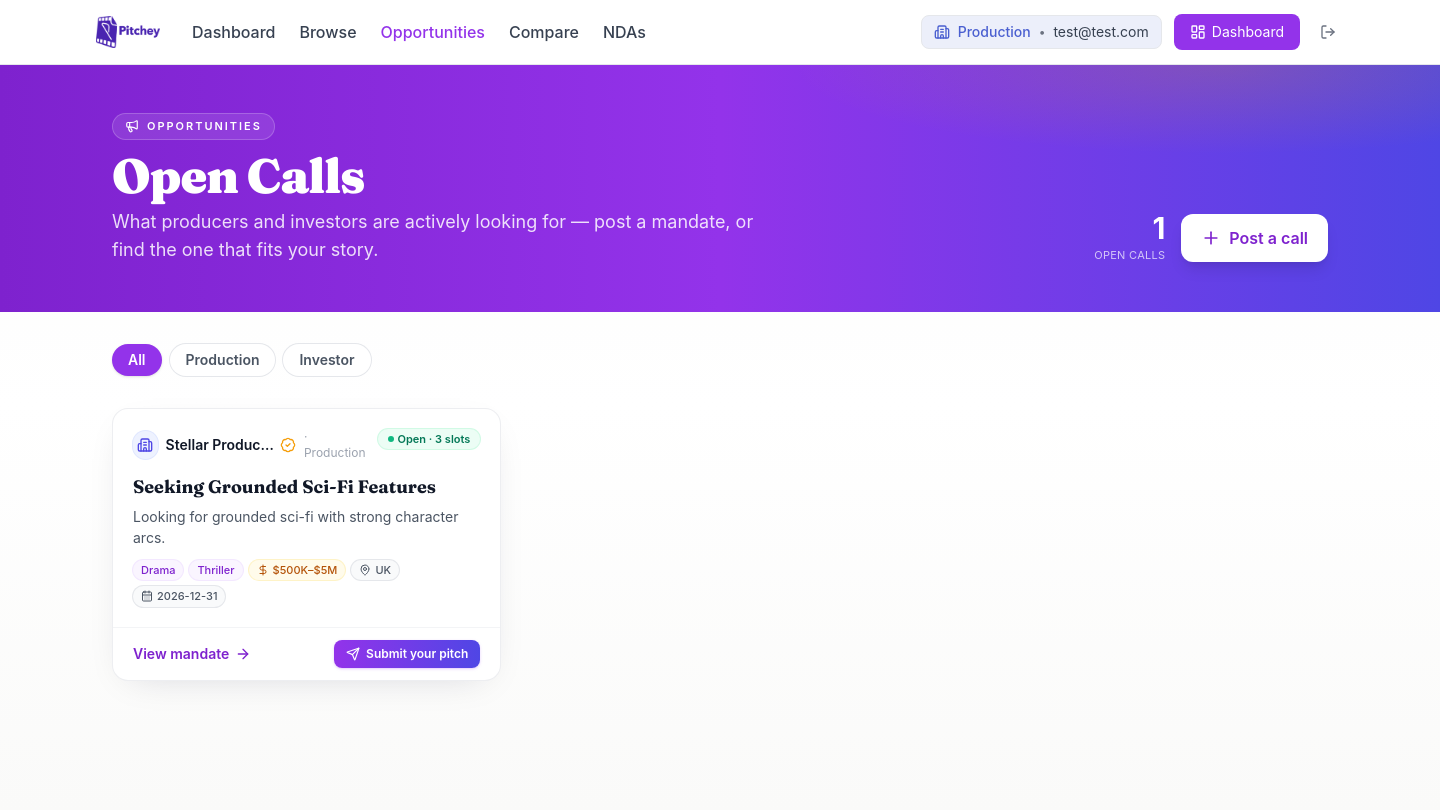
Scenario: OpportunitiesBoard › opens the view mandate modal when "View mandate" is clicked
Click the button "View mandate" at (192, 654), box [133,644,251,664]
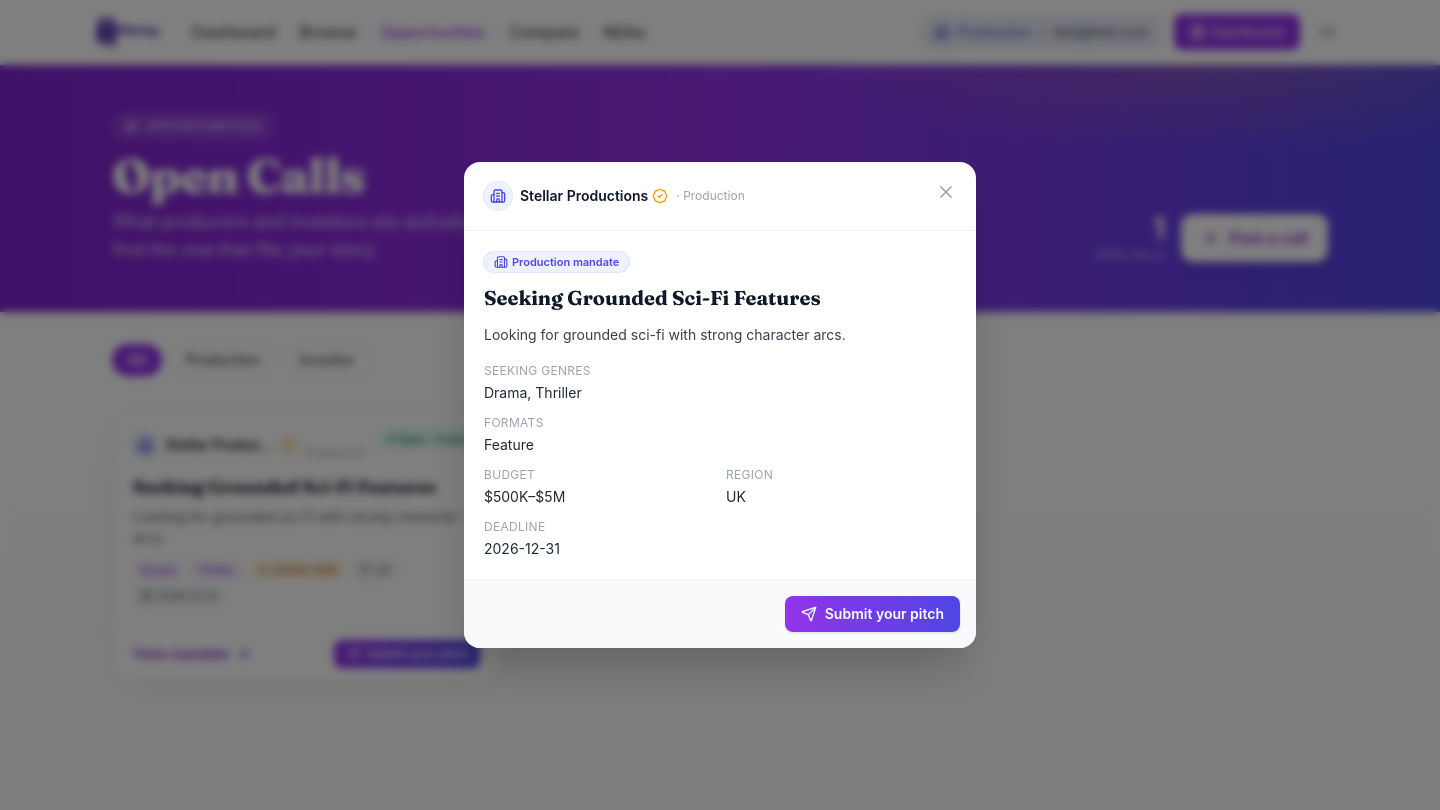
Now the text "Production mandate" is shown, box [484,252,629,272]
